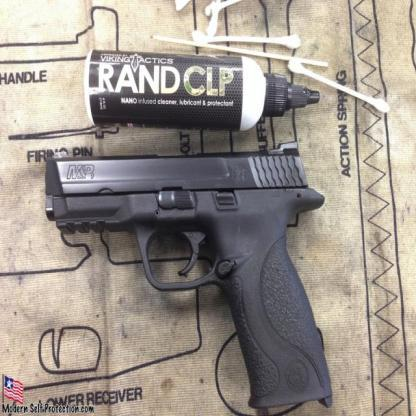weapon: (44, 141, 334, 411)
